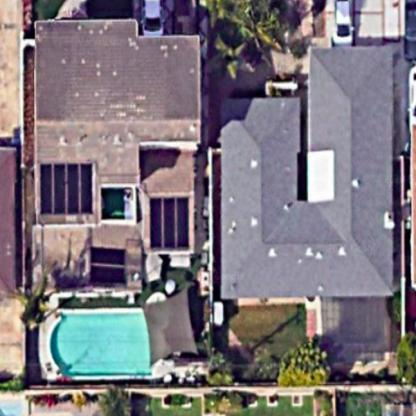car: (327, 2, 360, 49), (140, 2, 169, 41)
solar_panel: (37, 155, 99, 224), (143, 187, 197, 258), (87, 236, 132, 289)
swimming_pool: (40, 301, 157, 383)
